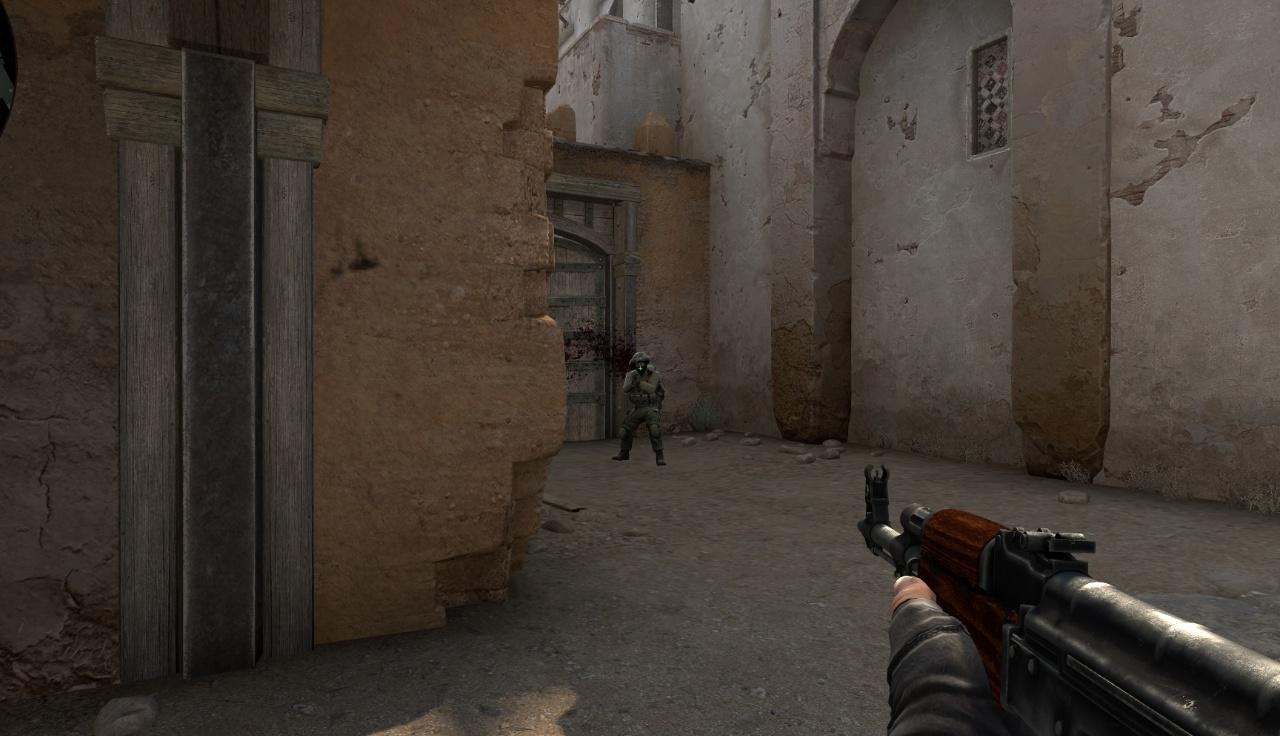ct: (611, 351, 667, 466)
cthead: (635, 353, 647, 372)
rifle: (859, 463, 1280, 736)
